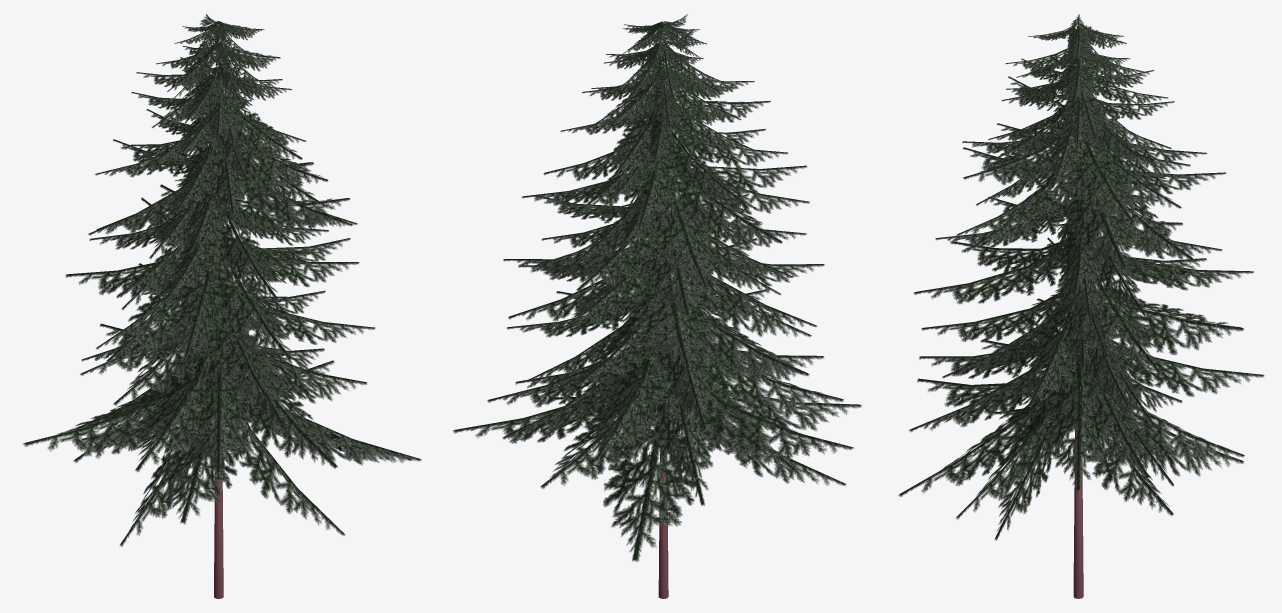
Rendered from treepineH.glb.
3 views of the same model, side by side, from view 1: azimuth 30°, elevation 25°; view 2: azimuth 150°, elevation 25°; view 3: azimuth 270°, elevation 25° (orthographic).
Visible parts, largest first — view 1: Branch, Trunk; view 2: Branch, Trunk; view 3: Branch, Trunk.
Part boxes in pixels (x1,y1,x2,y2): Branch: [23, 14, 421, 546]; Trunk: [214, 65, 223, 598]; Branch: [453, 14, 861, 561]; Trunk: [658, 223, 668, 598]; Branch: [898, 14, 1264, 540]; Trunk: [1073, 146, 1083, 598].
Bounding box in the file's own units: 10.29 × 15.54 × 9.14.
Materials: 2 (1 with a texture image).
